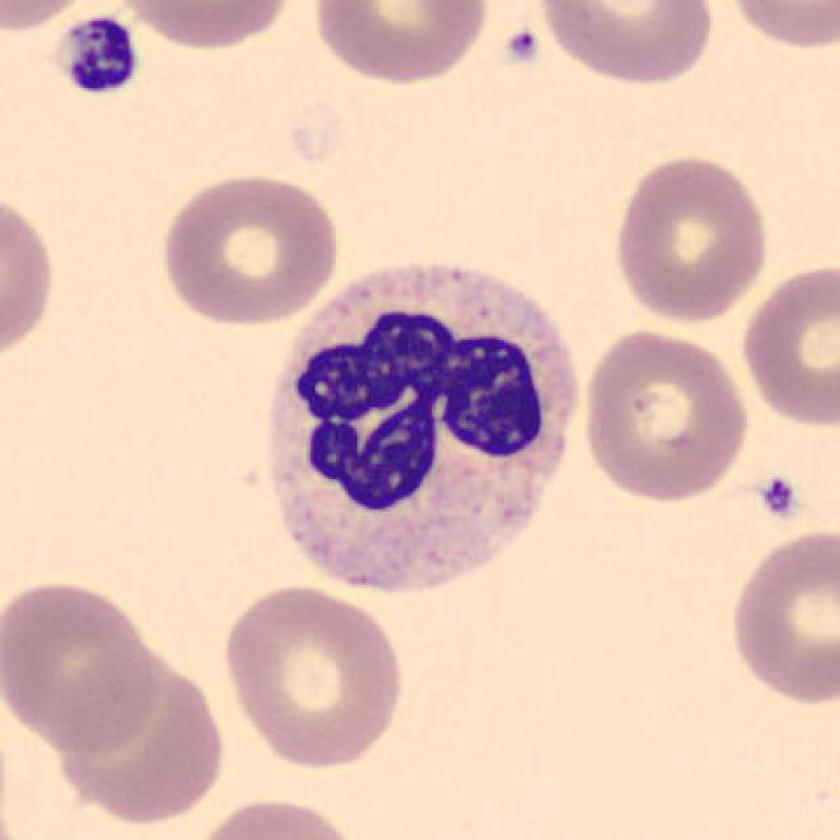neutrophil: (270, 264, 580, 591)
